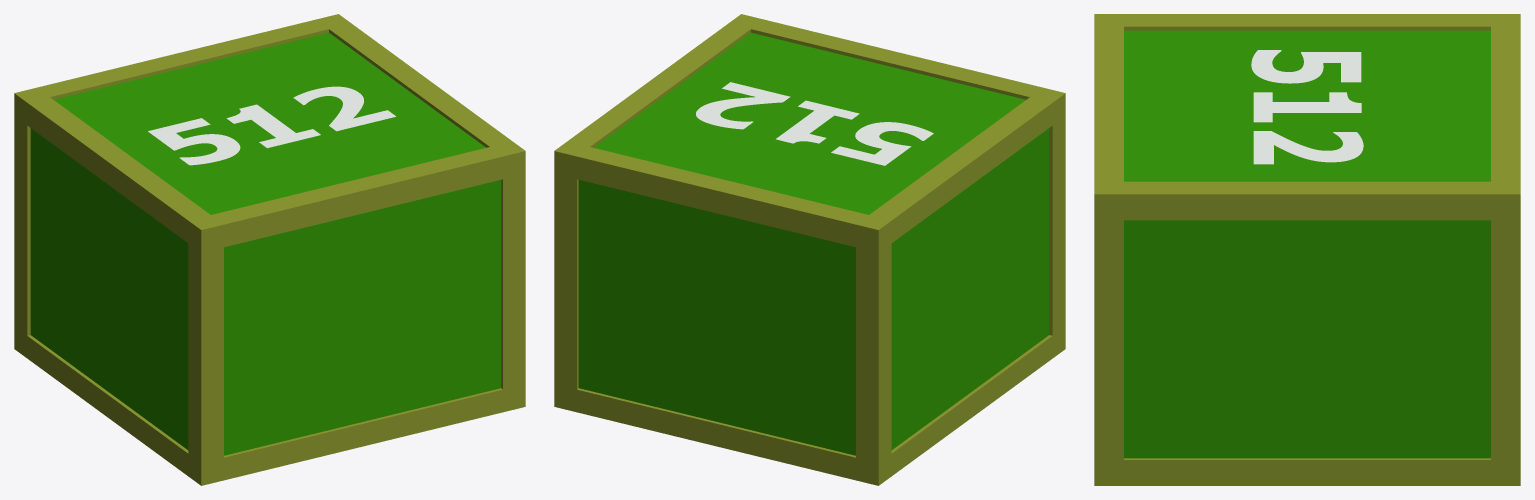
Rendered from 512Prefab.fbx.
The picture shows the model from 3 angles, left to right: view 1: azimuth 30°, elevation 25°; view 2: azimuth 150°, elevation 25°; view 3: azimuth 270°, elevation 25°; orthographic projection. The views are drawn at different scales.
Parts seen in each view (by area): view 1: Text.013; view 2: Text.013; view 3: Text.013.
Boxes of the visible parts, x1,y1,x2,y2 form: Text.013: [14, 14, 525, 485]; Text.013: [554, 14, 1065, 485]; Text.013: [1094, 14, 1520, 485].
Bounding box in the file's own units: 194 × 146 × 194.
